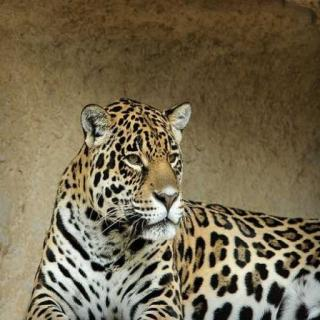Leopard: (31, 81, 320, 320)
